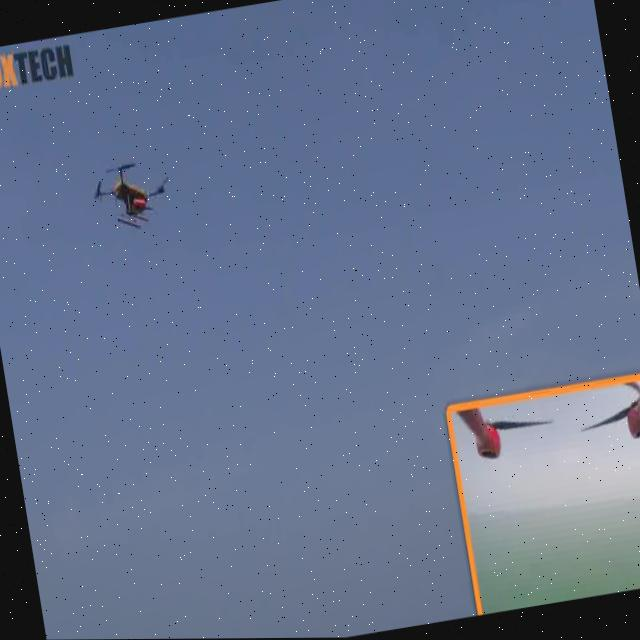drone: (85, 150, 176, 237)
